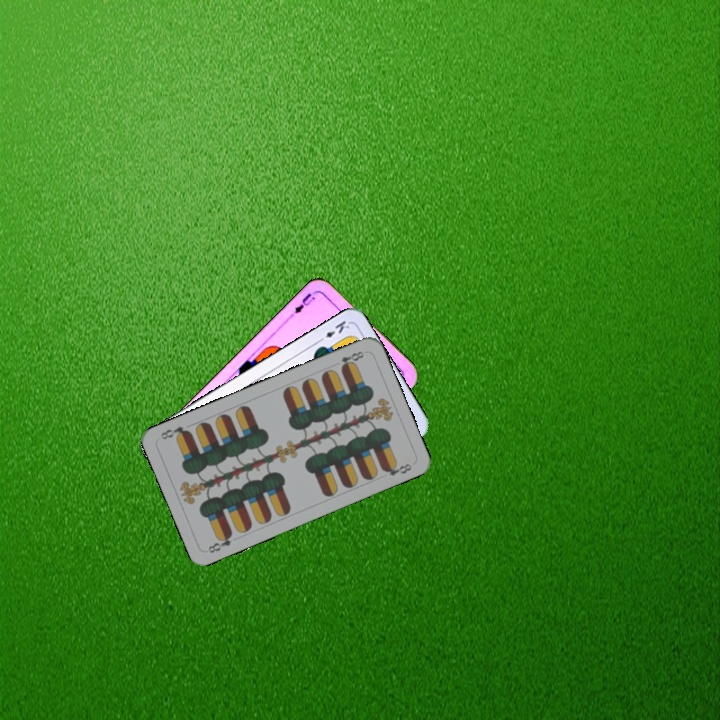E8: (204, 528, 235, 556), (336, 347, 366, 372)
EK: (314, 316, 352, 345)
EU: (286, 287, 319, 320)
